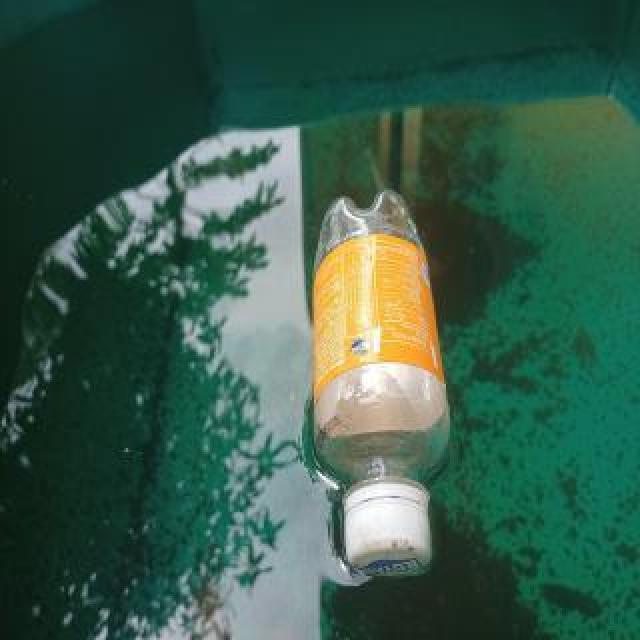bottle: (312, 188, 452, 578)
